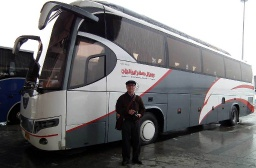bus: (16, 1, 256, 149)
person: (115, 80, 148, 165)
